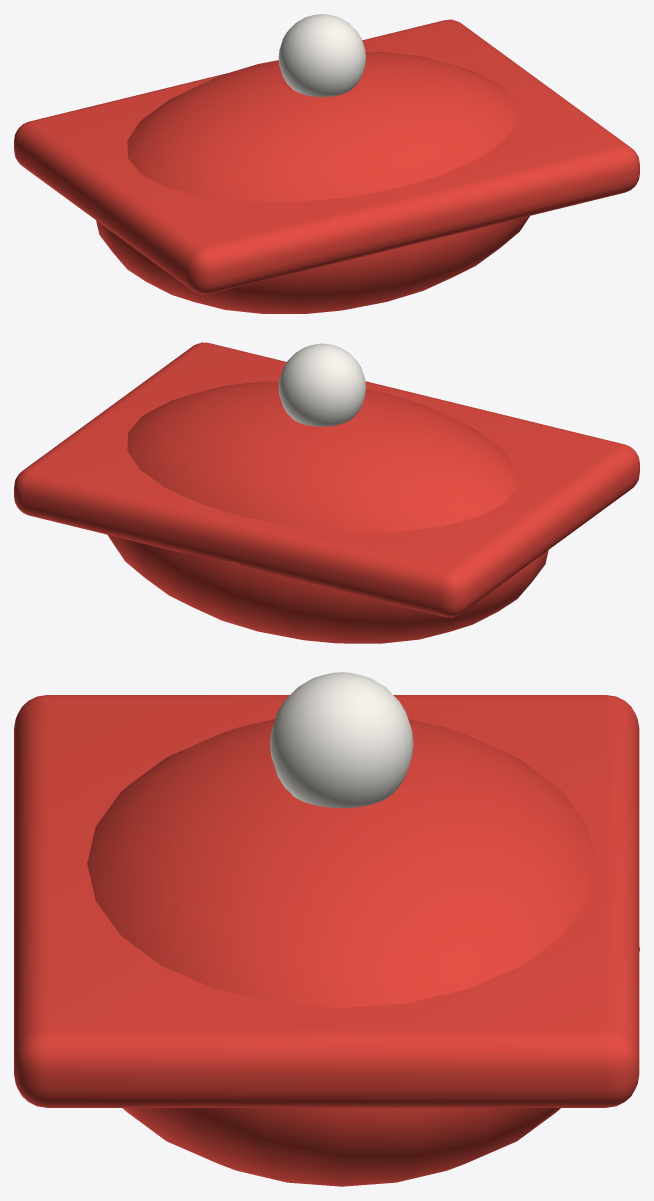
The model's file is part_beanie.glb.
3 renders of one model, top to bottom at view 1: azimuth 30°, elevation 25°; view 2: azimuth 150°, elevation 25°; view 3: azimuth 270°, elevation 25°, orthographic. The views are drawn at different scales.
Visible parts, largest first — view 1: Beanie_Brim, Beanie_Body, Beanie_Pompom; view 2: Beanie_Body, Beanie_Brim, Beanie_Pompom; view 3: Beanie_Brim, Beanie_Body, Beanie_Pompom.
Boxes of the visible parts, x1,y1,x2,y2 form: Beanie_Brim: (14,19,639,294); Beanie_Body: (96,52,529,313); Beanie_Pompom: (278,14,365,97); Beanie_Body: (107,381,548,643); Beanie_Brim: (14,342,639,617); Beanie_Pompom: (278,343,365,426); Beanie_Brim: (14,695,639,1107); Beanie_Body: (87,719,639,1186); Beanie_Pompom: (270,672,413,808).
Bounding box in the file's own units: 1.13 × 0.6386 × 0.8288.
